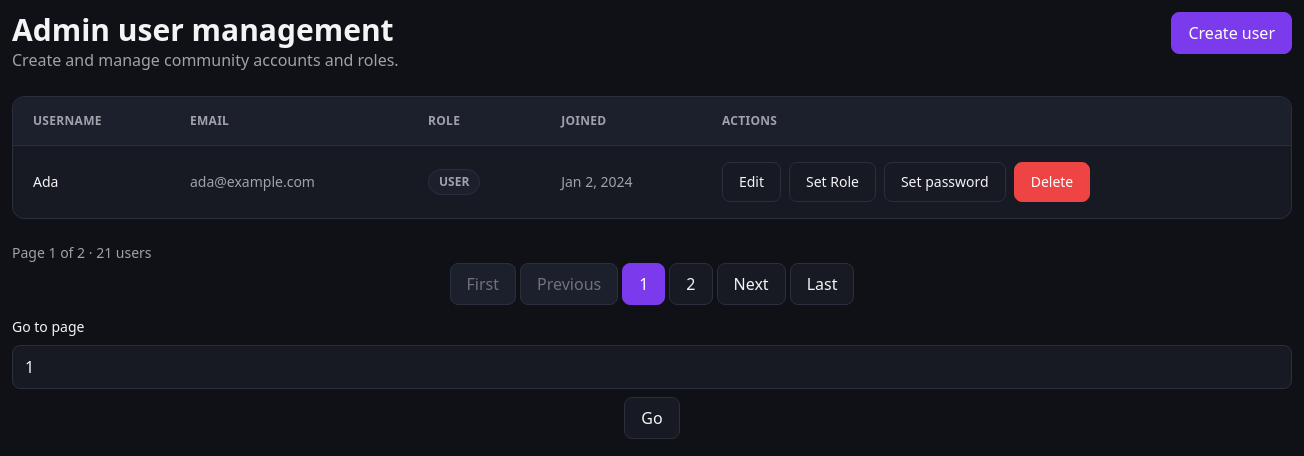
Test case: pagination at the component API boundary › keeps admin compatible with flat user responses
Expected: the button with aria-label "Previous page" is disabled, [520,263,618,305]
Click the button with aria-label "Next page" at coordinates (751, 284), box [716,263,786,305]
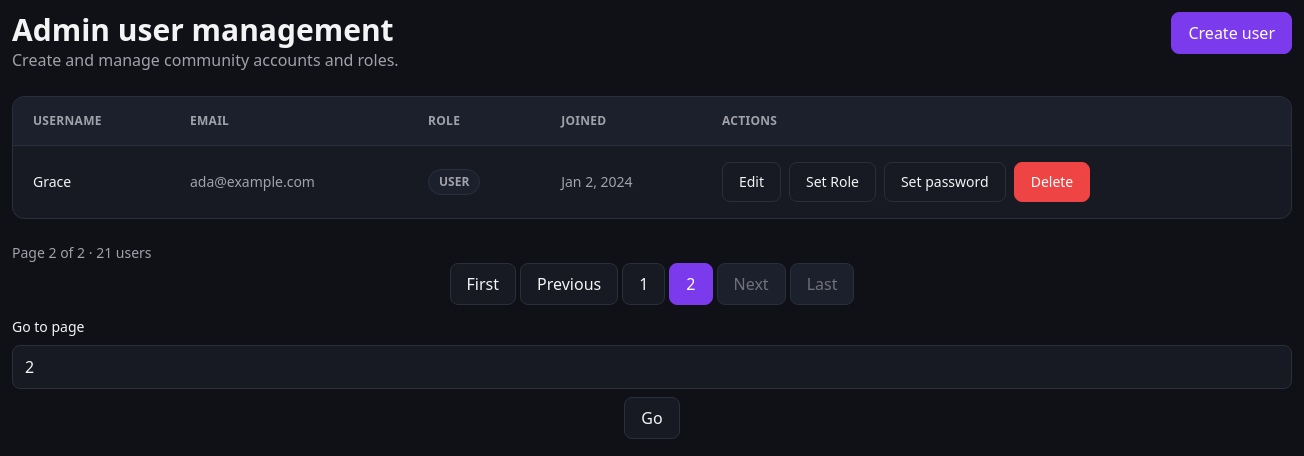
Result: the button with aria-label "Next page" is disabled at [716,263,786,305]
